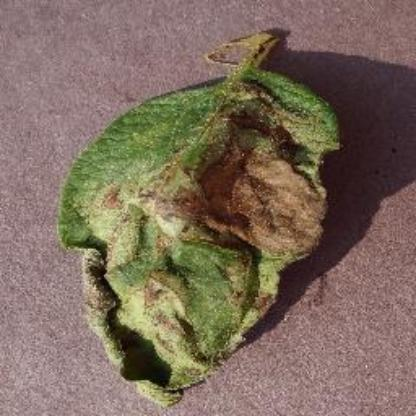Late-Blight: (43, 18, 377, 412)
